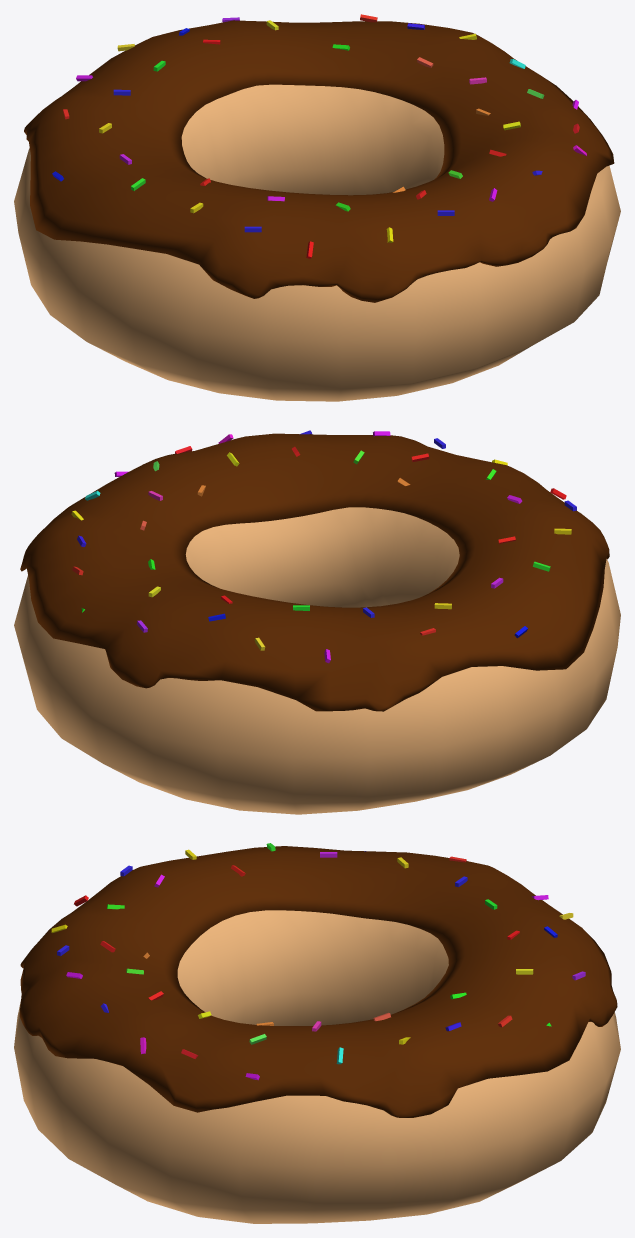
File: Lowpoly-Donut-Choc.fbx
The picture shows the model from 3 angles, top to bottom: view 1: azimuth 30°, elevation 25°; view 2: azimuth 150°, elevation 25°; view 3: azimuth 270°, elevation 25°; orthographic projection.
Visible parts, largest first — view 1: Icing, Donut; view 2: Icing, Donut; view 3: Icing, Donut.
Boxes of the visible parts, box(x1,y1,x2,y2) form: Icing: box(24, 20, 614, 302); Donut: box(14, 84, 620, 401); Icing: box(20, 433, 609, 711); Donut: box(14, 507, 620, 814); Icing: box(19, 846, 617, 1117); Donut: box(14, 910, 620, 1223).
Size of the model in its own units: 14.32 by 4.94 by 14.16.
